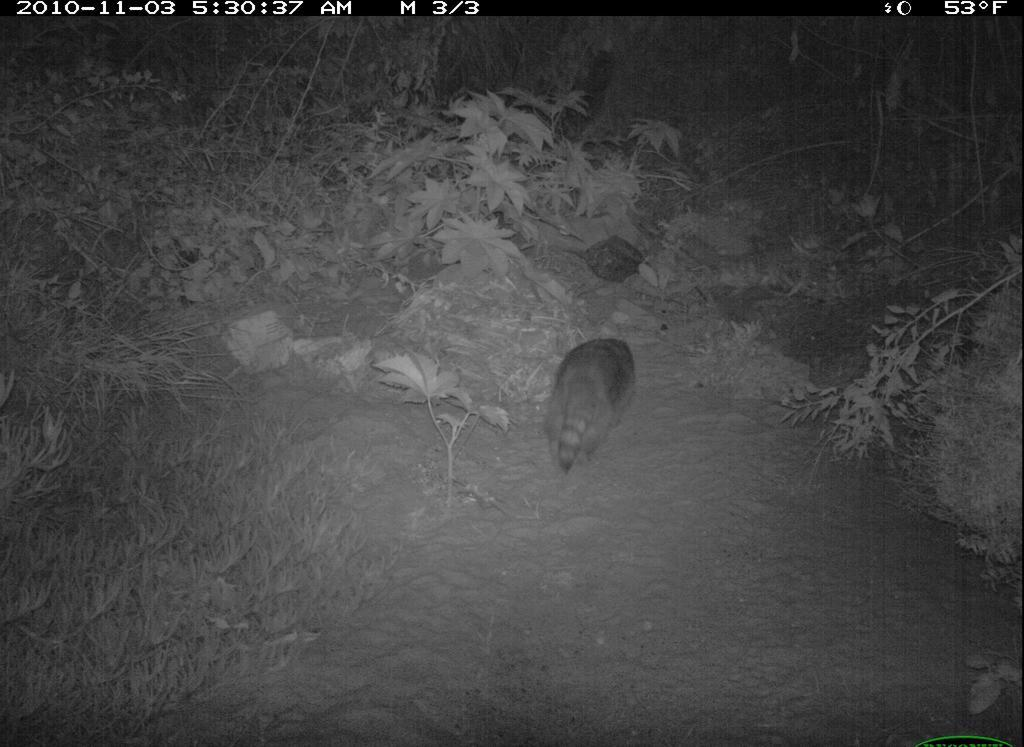raccoon: (526, 324, 653, 488)
